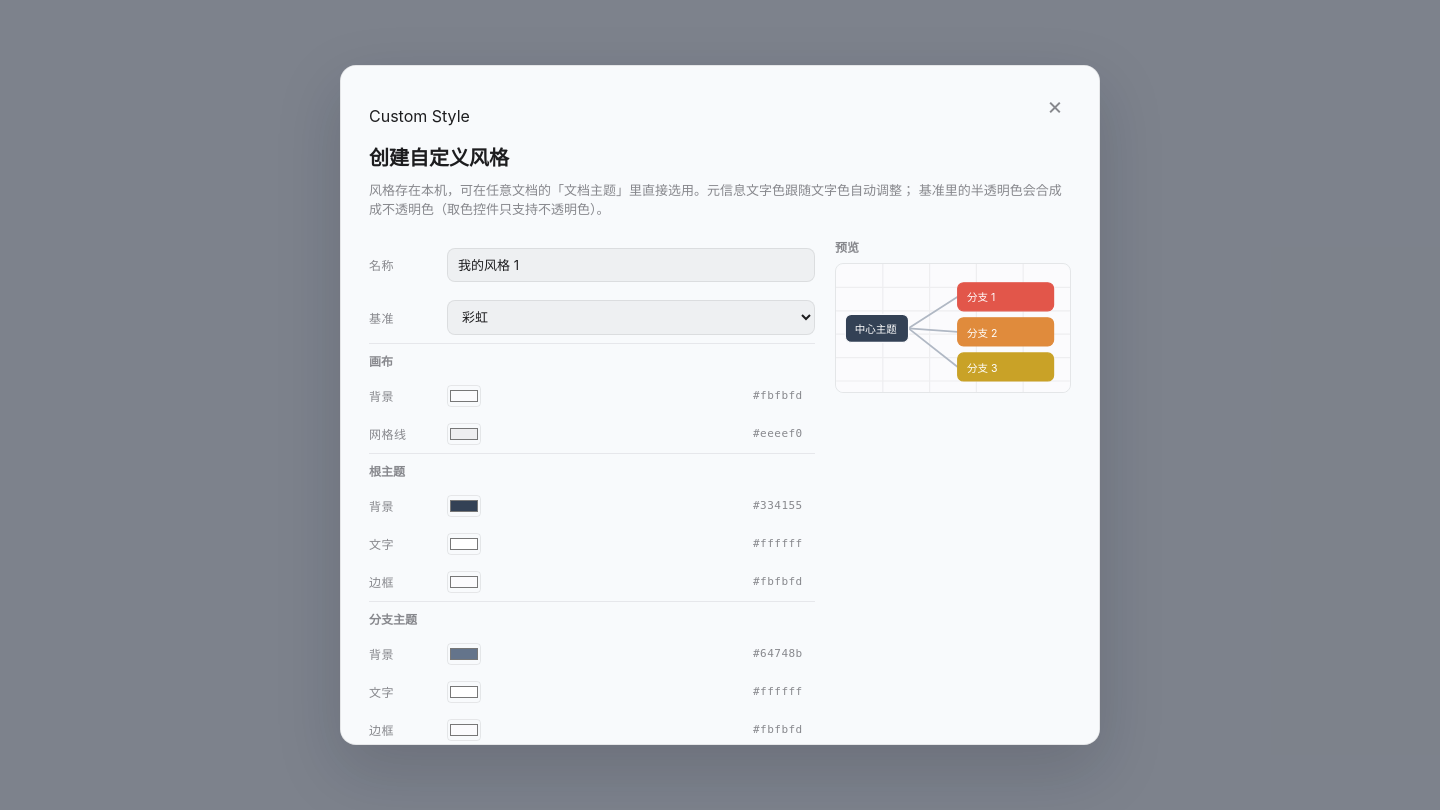
StyleEditor › 基准带色板时改分支配色 → 清空色板并显式提示
This screenshot has width=1440, height=810.
Step 1. Type "#123456" into the colour field named "分支主题背景" → (464, 654), box [447,643,481,665]
(page scrolled)
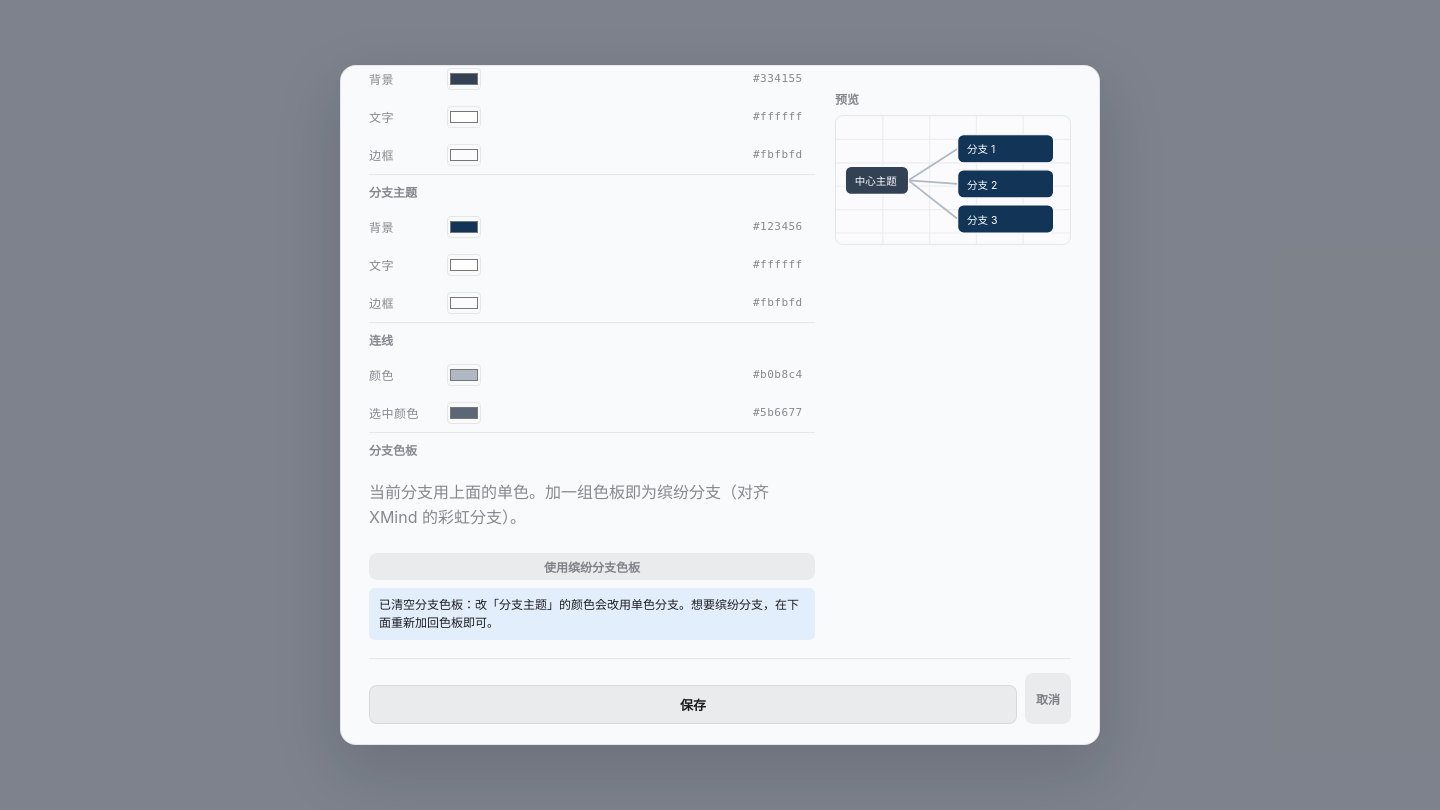
Check: the message shows "已清空分支色板", box [379,597,799,630]
